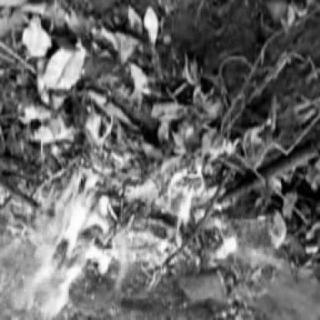Fire: (4, 126, 248, 320)
